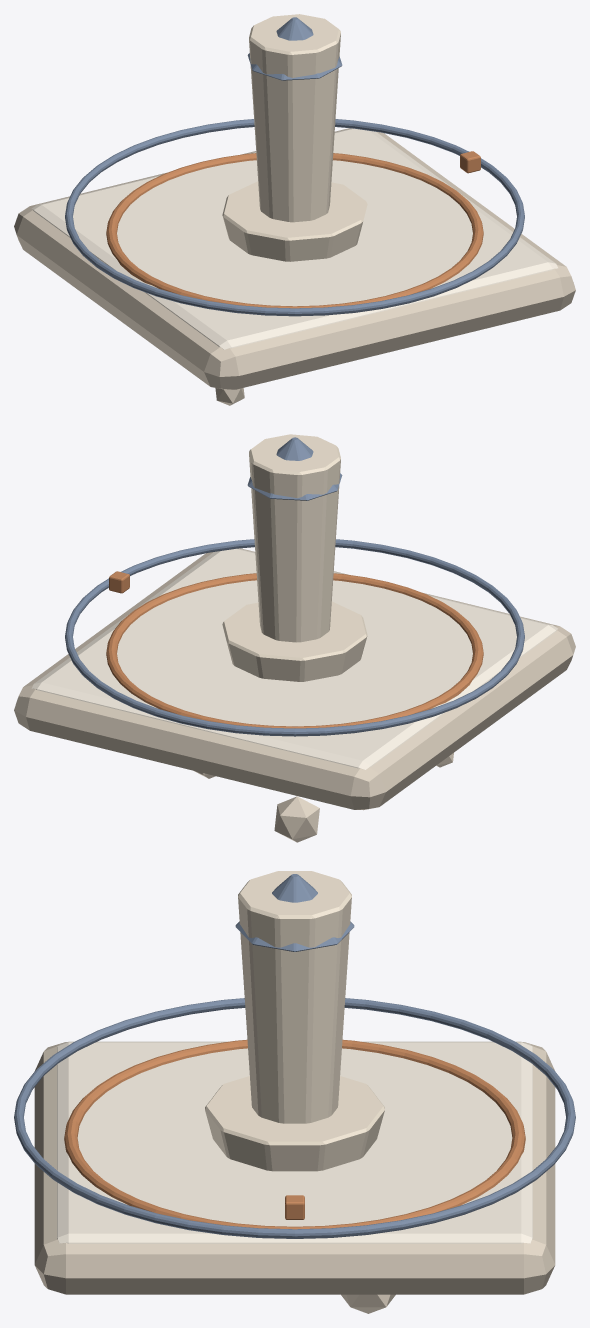
The model's file is island_retrieval.glb.
The picture shows the model from 3 angles, top to bottom: view 1: azimuth 30°, elevation 25°; view 2: azimuth 150°, elevation 25°; view 3: azimuth 270°, elevation 25°; orthographic projection. The views are drawn at different scales.
Parts seen in each view (by area): view 1: island_retrieval; view 2: island_retrieval; view 3: island_retrieval.
Part boxes in pixels (x1,y1,x2,y2): island_retrieval: [14, 14, 575, 405]; island_retrieval: [14, 434, 575, 842]; island_retrieval: [14, 871, 575, 1313].
Bounding box in the file's own units: 2.85 × 2.39 × 2.85.
